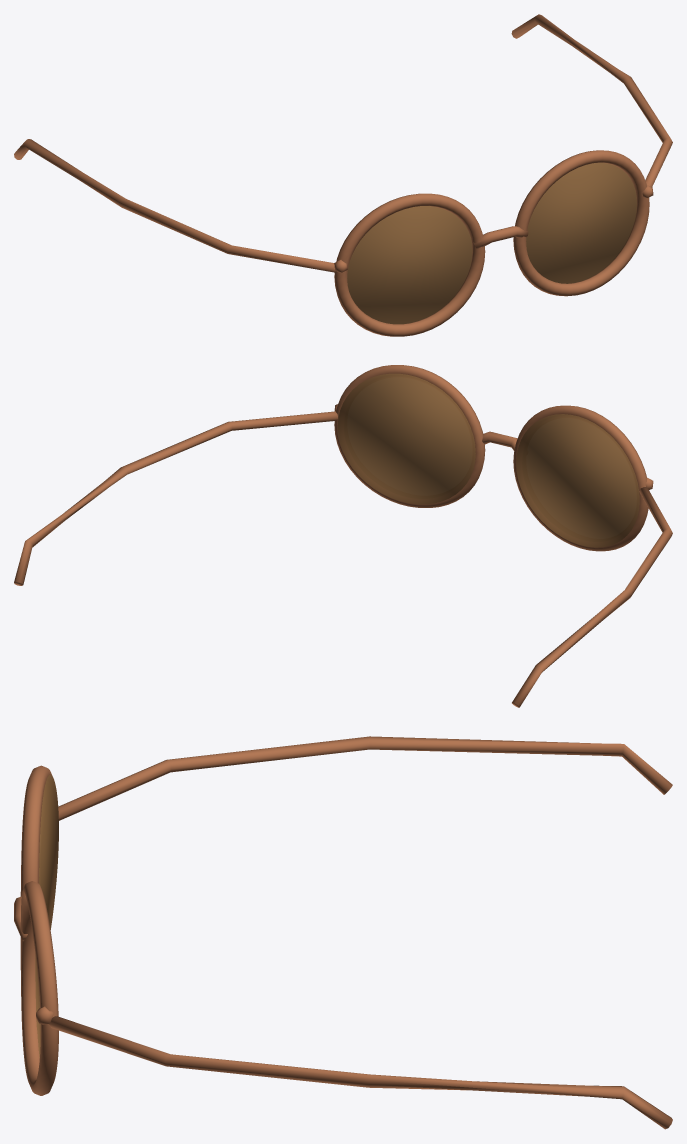
The model's file is 10-amber-sunset.glb.
3 renders of one model, top to bottom at view 1: azimuth 30°, elevation 25°; view 2: azimuth 150°, elevation 25°; view 3: azimuth 270°, elevation 25°, orthographic. The views are drawn at different scales.
Visible parts, largest first — view 1: Glasses10_Lens-12, Glasses10_Lens14, Glasses10_Rim-11, Glasses10_Rim13, Glasses10_Temple-16, Glasses10_Temple18, Glasses10_Bridge5; view 2: Glasses10_Lens14, Glasses10_Lens-12, Glasses10_Temple18, Glasses10_Rim13, Glasses10_Rim-11, Glasses10_Temple-16; view 3: Glasses10_Temple-16, Glasses10_Temple18, Glasses10_Rim13, Glasses10_Rim-11, Glasses10_Lens-12.
Boxes of the visible parts, box(x1,y1,x2,y2) form: Glasses10_Lens-12: box(347, 206, 472, 324); Glasses10_Lens14: box(526, 162, 636, 283); Glasses10_Rim-11: box(334, 193, 485, 336); Glasses10_Rim13: box(513, 150, 649, 296); Glasses10_Temple-16: box(14, 139, 335, 272); Glasses10_Temple18: box(511, 14, 672, 186); Glasses10_Bridge5: box(473, 226, 528, 248); Glasses10_Lens14: box(337, 373, 475, 504); Glasses10_Lens-12: box(516, 414, 639, 547); Glasses10_Temple18: box(14, 411, 337, 585); Glasses10_Rim13: box(334, 365, 485, 507); Glasses10_Rim-11: box(513, 405, 649, 551); Glasses10_Temple-16: box(512, 487, 672, 707); Glasses10_Temple-16: box(58, 736, 672, 820); Glasses10_Temple18: box(49, 1016, 672, 1129); Glasses10_Rim13: box(20, 881, 58, 1095); Glasses10_Rim-11: box(20, 765, 58, 929); Glasses10_Lens-12: box(39, 775, 58, 929).
Size of the model in its own units: 0.6344 by 0.164 by 0.5074.
